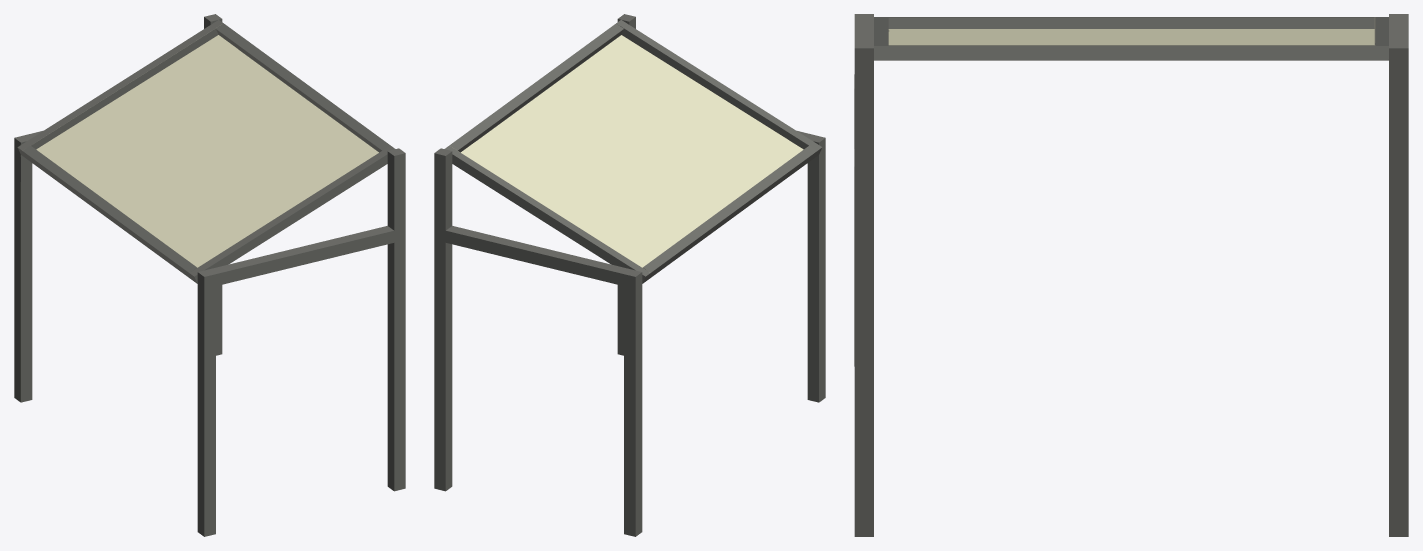
File: RWAL_op20.dae
3 views of the same model, side by side, from view 1: azimuth 30°, elevation 25°; view 2: azimuth 150°, elevation 25°; view 3: azimuth 270°, elevation 25° (orthographic). The views are drawn at different scales.
Parts seen in each view (by area): view 1: RWAL_op20; view 2: RWAL_op20; view 3: RWAL_op20.
Part boxes in pixels (x1,y1,x2,y2): RWAL_op20: [14, 14, 405, 536]; RWAL_op20: [434, 14, 825, 536]; RWAL_op20: [854, 14, 1408, 536].
Bounding box in the file's own units: 0.7088 × 1.14 × 1.11.
Materials: 2 (2 with a texture image).
